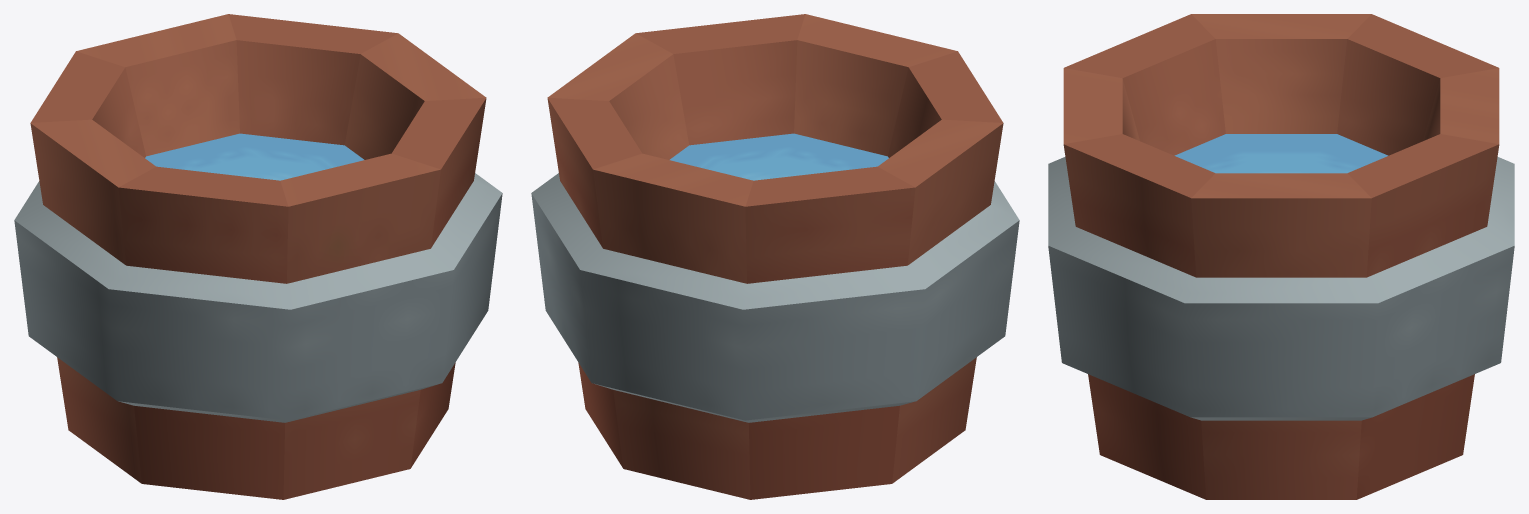
File: bucket_water.glb
The picture shows the model from 3 angles, left to right: view 1: azimuth 30°, elevation 25°; view 2: azimuth 150°, elevation 25°; view 3: azimuth 270°, elevation 25°; orthographic projection. The views are drawn at different scales.
Visible parts, largest first — view 1: bucket_water; view 2: bucket_water; view 3: bucket_water.
Boxes of the visible parts, <box> form: bucket_water: <box>14,14,502,499</box>; bucket_water: <box>531,14,1019,499</box>; bucket_water: <box>1048,14,1514,499</box>.
Bounding box in the file's own units: 0.14 × 0.105 × 0.14.
1 material, 1 textured.
